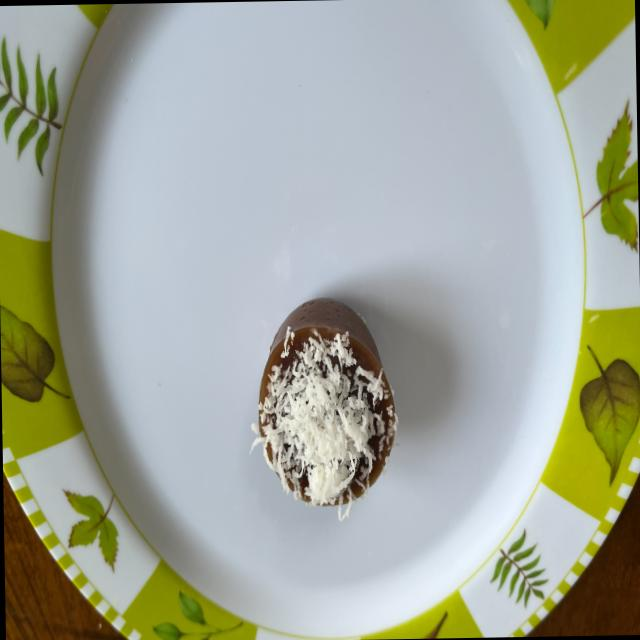Kuih lompang: (252, 298, 397, 520)
